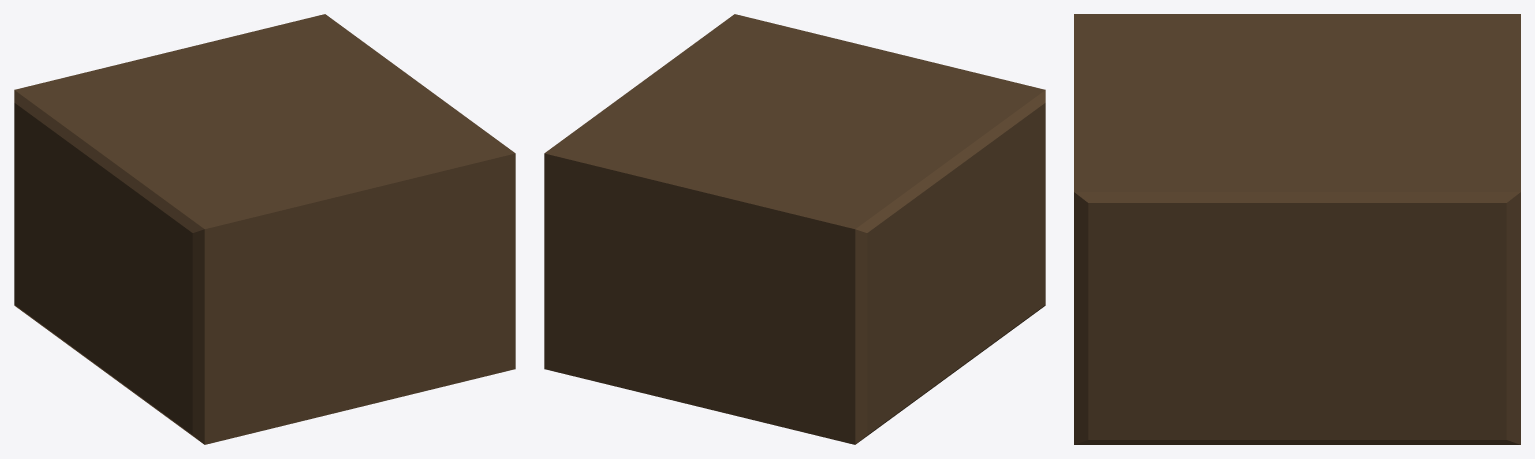
File: Itr_Couch_Inside_Seat_Middle_04.FBX
3 renders of one model, left to right at view 1: azimuth 30°, elevation 25°; view 2: azimuth 150°, elevation 25°; view 3: azimuth 270°, elevation 25°, orthographic. The views are drawn at different scales.
Visible parts, largest first — view 1: Itr_Couch_Inside_Seat_Middle_04; view 2: Itr_Couch_Inside_Seat_Middle_04; view 3: Itr_Couch_Inside_Seat_Middle_04.
Boxes of the visible parts, x1=… form: Itr_Couch_Inside_Seat_Middle_04: x1=14, y1=14, x2=515, y2=444; Itr_Couch_Inside_Seat_Middle_04: x1=544, y1=14, x2=1045, y2=444; Itr_Couch_Inside_Seat_Middle_04: x1=1074, y1=14, x2=1520, y2=444.
Bounding box in the file's own units: 19.21 × 12.29 × 19.68.
